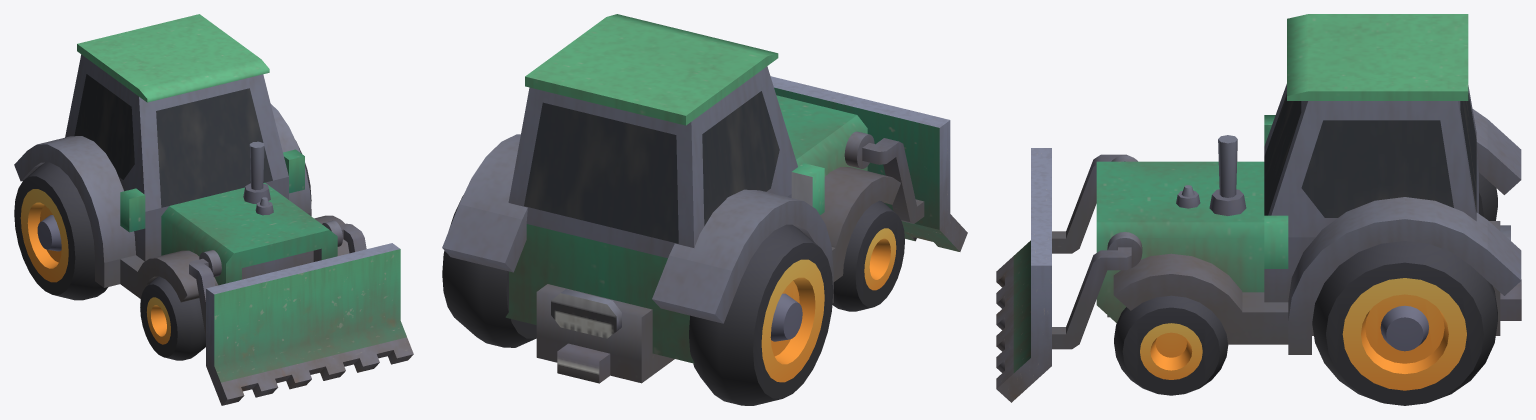
The model's file is tractor-shovel-L2.glb.
3 views of the same model, side by side, from view 1: azimuth 30°, elevation 25°; view 2: azimuth 150°, elevation 25°; view 3: azimuth 270°, elevation 25° (orthographic). The views are drawn at different scales.
Parts seen in each view (by area): view 1: body, shovel, wheel-back-right, wheel-front-right; view 2: body, wheel-back-right, shovel, wheel-front-right, wheel-back-left; view 3: body, wheel-back-left, shovel, wheel-front-left, wheel-back-right.
Part boxes in pixels (x1,y1,x2,y2): body: (14,14,349,302); shovel: (189,220,413,405); wheel-back-right: (14,162,108,300); wheel-front-right: (140,276,205,360); body: (442,14,900,383); wheel-back-right: (689,224,833,405); shovel: (770,76,967,251); wheel-front-right: (832,200,904,311); wheel-back-left: (442,195,536,347); body: (1096,14,1521,354); wheel-back-left: (1312,241,1497,405); shovel: (996,148,1142,402); wheel-front-left: (1114,295,1228,395); wheel-back-right: (1479,172,1497,220).
Size of the model in its own units: 1.66 by 1.51 by 2.47.
Materials: 6 (6 with a texture image).
